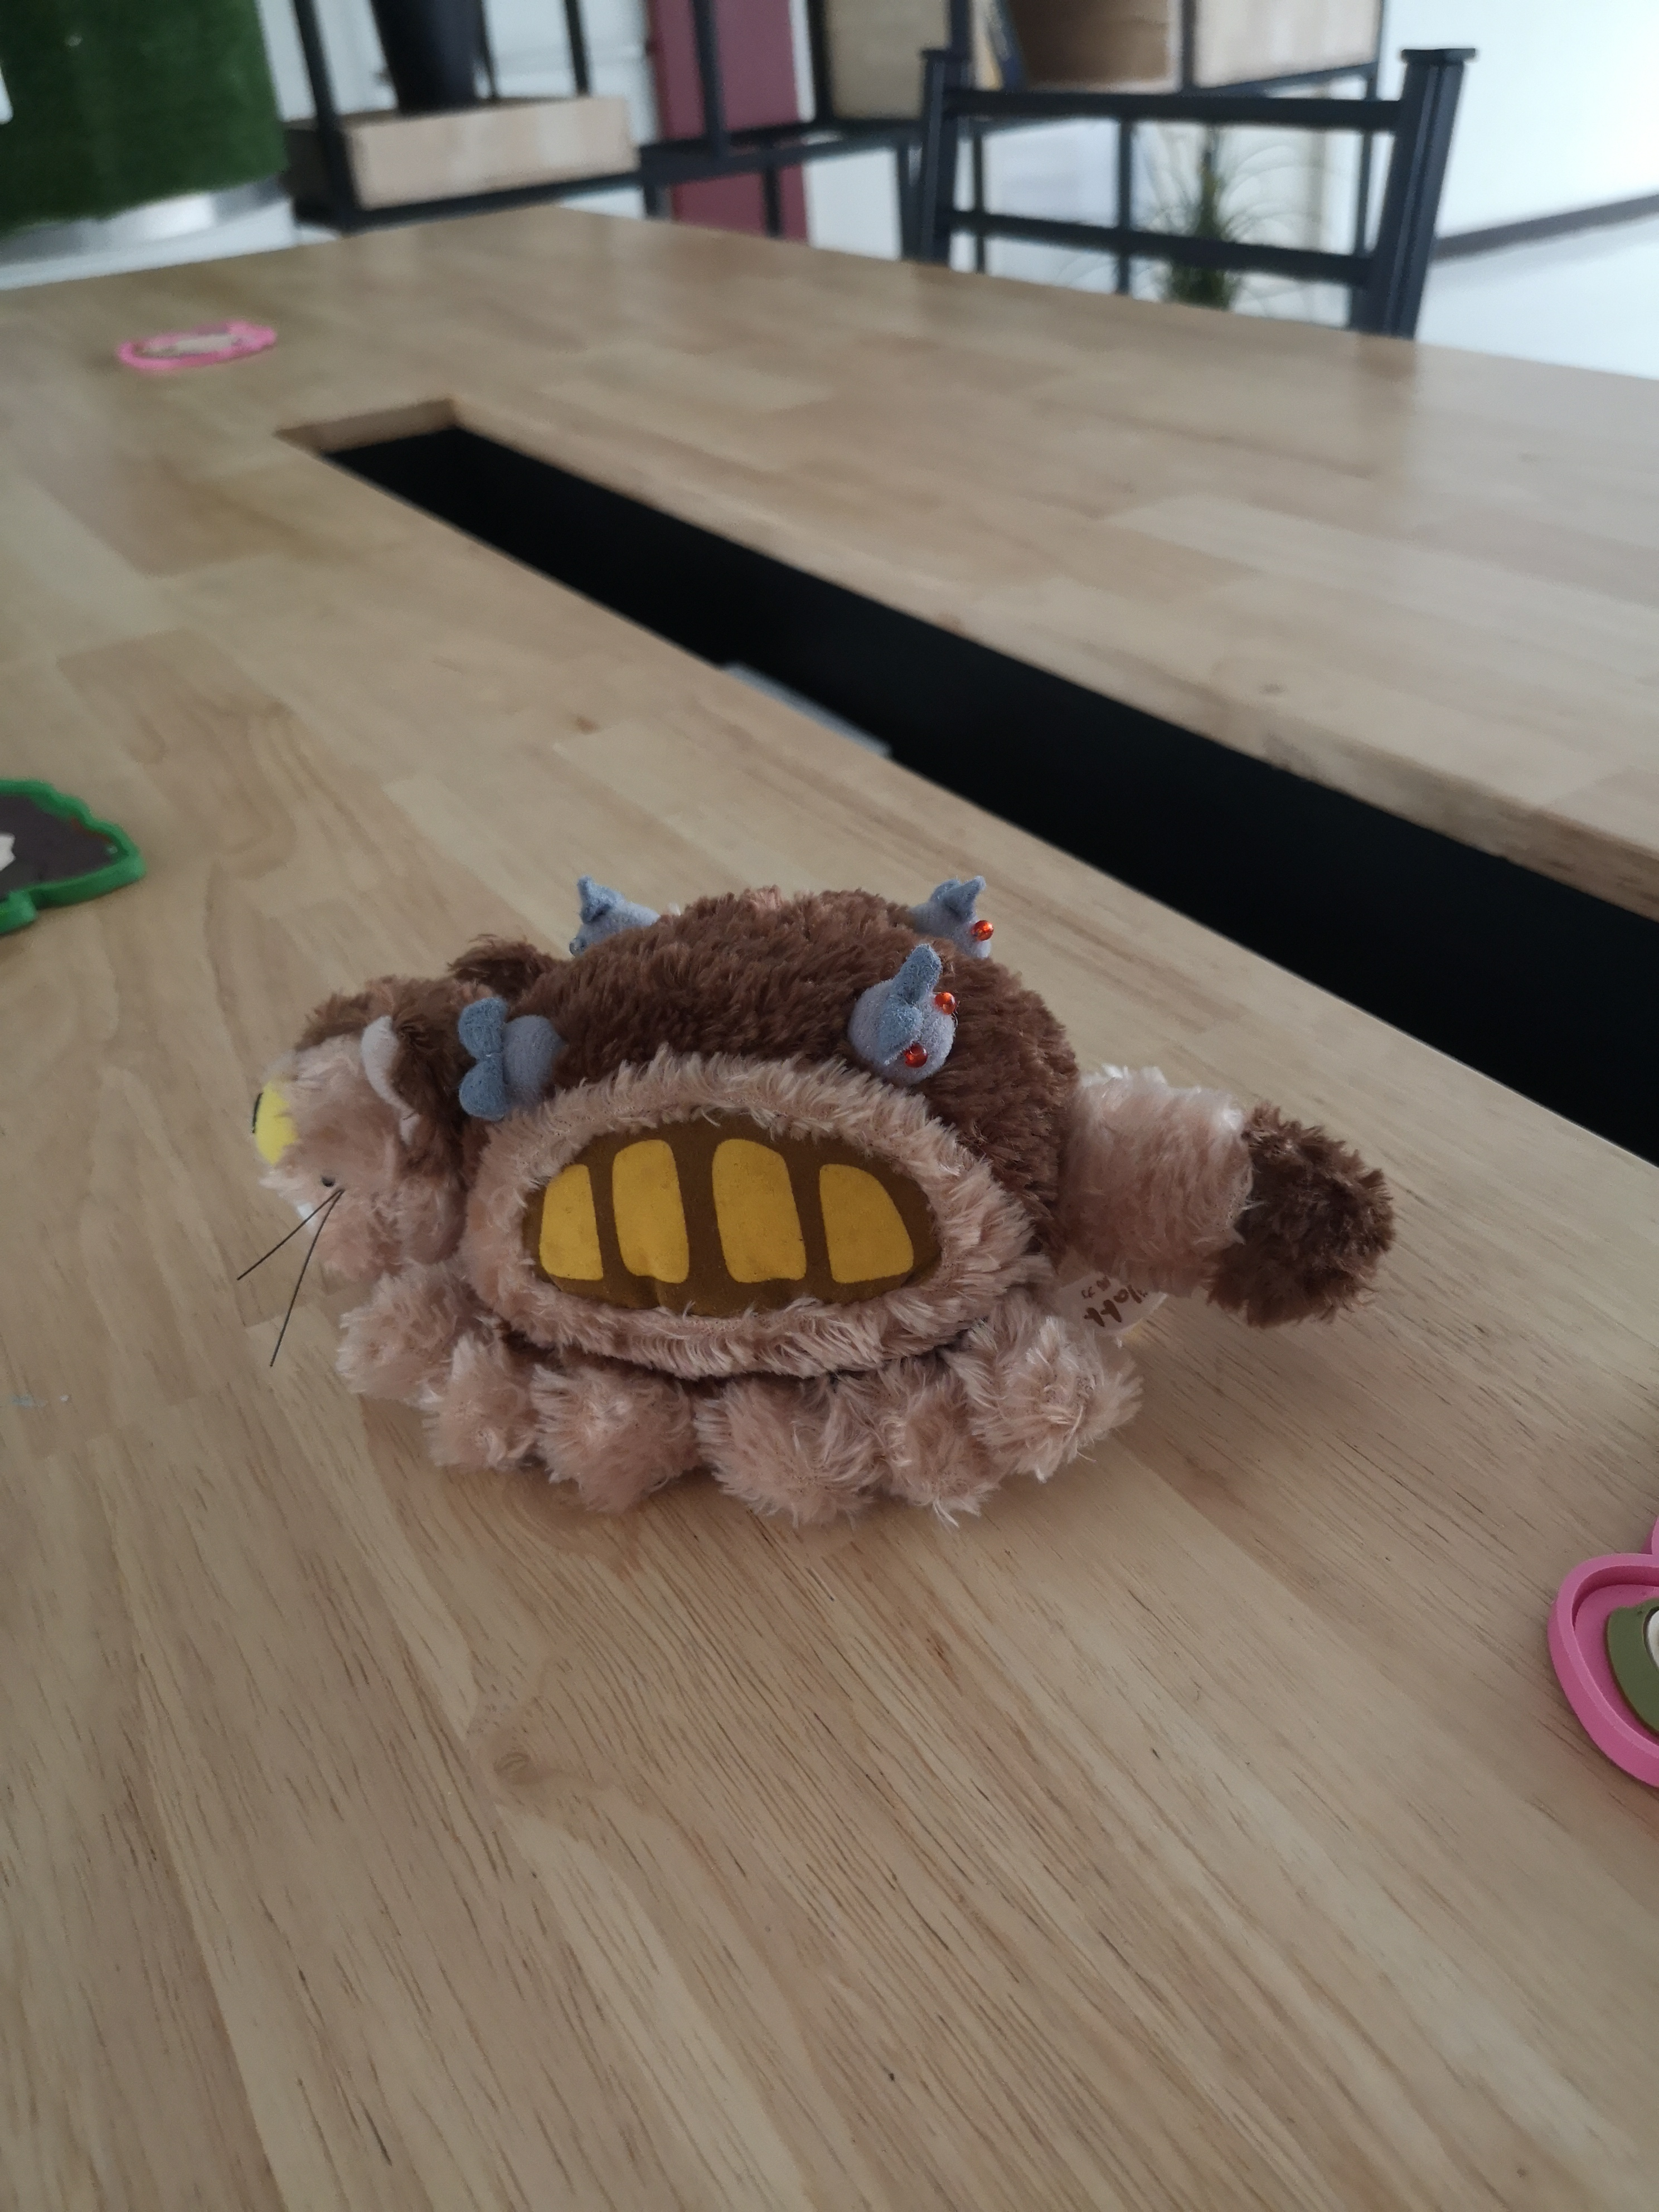nekobus: (221, 846, 1408, 1538)
